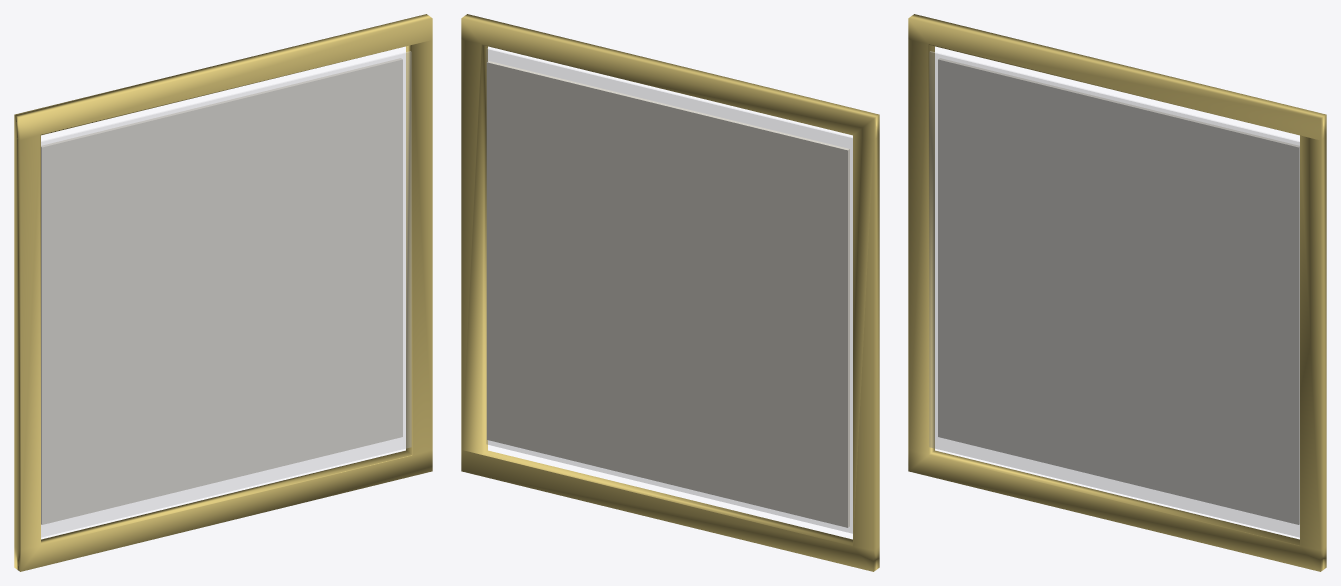
File: painting_large.glb
3 renders of one model, left to right at view 1: azimuth 30°, elevation 25°; view 2: azimuth 150°, elevation 25°; view 3: azimuth 330°, elevation 25°, orthographic.
Parts seen in each view (by area): view 1: glass, canvas, merged_frame_gold; view 2: canvas, merged_frame_gold, glass; view 3: glass, canvas, merged_frame_gold.
Boxes of the visible parts, x1,y1,x2,y2 form: glass: (41, 51, 411, 537); canvas: (41, 58, 402, 524); merged_frame_gold: (14, 14, 432, 571); canvas: (487, 61, 849, 527); merged_frame_gold: (461, 14, 879, 571); glass: (486, 48, 852, 533); glass: (929, 51, 1299, 537); canvas: (938, 58, 1299, 524); merged_frame_gold: (908, 14, 1326, 571).
Size of the model in its own units: 1.2 by 1.26 by 0.03.
